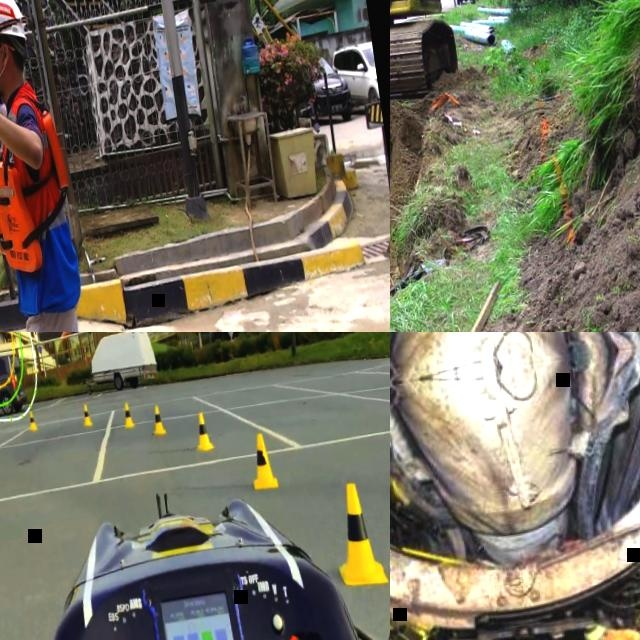Hardhat: (0, 0, 30, 48), (581, 622, 610, 640)
Mask: (0, 46, 11, 98)
NO-Safety Vest: (602, 627, 640, 640)
Person: (0, 0, 120, 332)
Safety Cone: (329, 476, 390, 593), (248, 431, 278, 493), (193, 410, 215, 453), (150, 404, 166, 438), (80, 401, 95, 430), (121, 401, 135, 431), (27, 410, 38, 433)
Safety Vest: (0, 103, 81, 277)
machinery: (390, 0, 510, 332)
vehicle: (0, 452, 390, 640), (327, 38, 382, 120), (303, 52, 355, 133), (0, 350, 29, 425), (454, 0, 480, 8)
